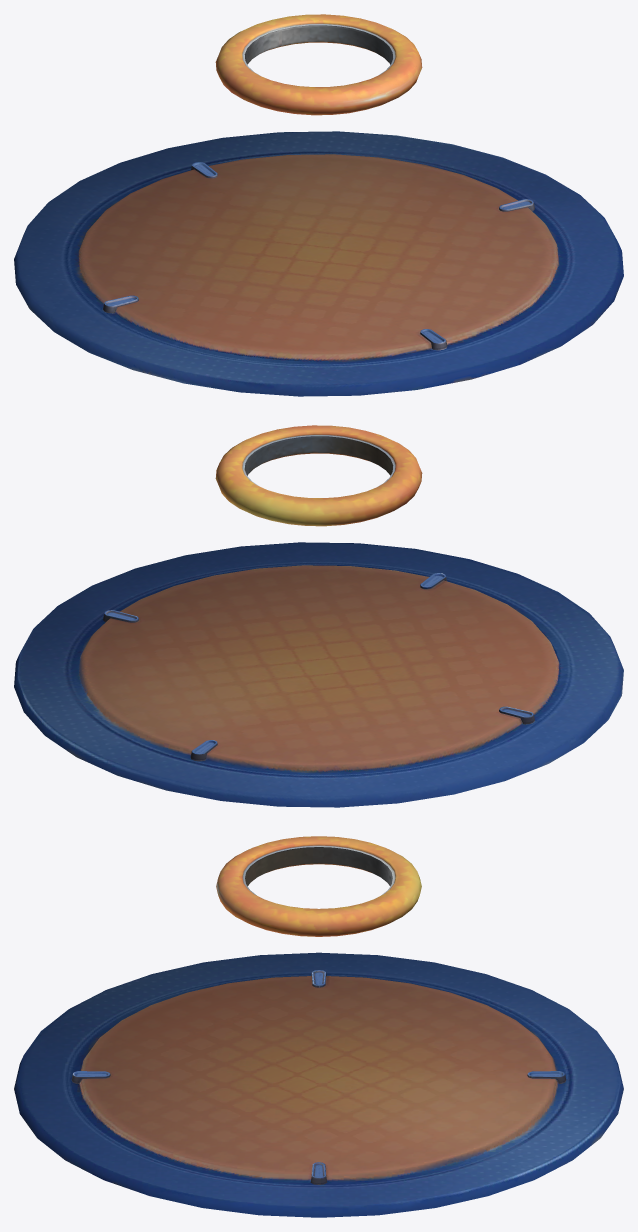
Rendered from pref_TPC_v2_WSJ_NeutralScoreArea03_orange_dead_lv1.fbx.
The picture shows the model from 3 angles, top to bottom: view 1: azimuth 30°, elevation 25°; view 2: azimuth 150°, elevation 25°; view 3: azimuth 270°, elevation 25°; orthographic projection.
Visible parts, largest first — view 1: sm_prop_platform06a_lv1, sm_prop_platform06b_lv1; view 2: sm_prop_platform06a_lv1, sm_prop_platform06b_lv1; view 3: sm_prop_platform06a_lv1, sm_prop_platform06b_lv1.
Part boxes in pixels (left/top/right/bottom): sm_prop_platform06a_lv1: left=14, top=131, right=623, bottom=396; sm_prop_platform06b_lv1: left=215, top=14, right=422, bottom=115; sm_prop_platform06a_lv1: left=14, top=542, right=623, bottom=807; sm_prop_platform06b_lv1: left=215, top=425, right=422, bottom=526; sm_prop_platform06a_lv1: left=14, top=952, right=623, bottom=1217; sm_prop_platform06b_lv1: left=216, top=836, right=421, bottom=936.
Bounding box in the file's own units: 7.46 × 2.88 × 7.46.
